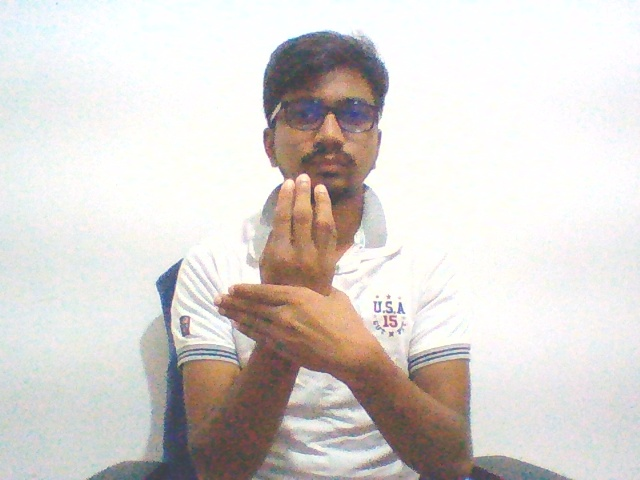tree: (205, 163, 381, 389)
